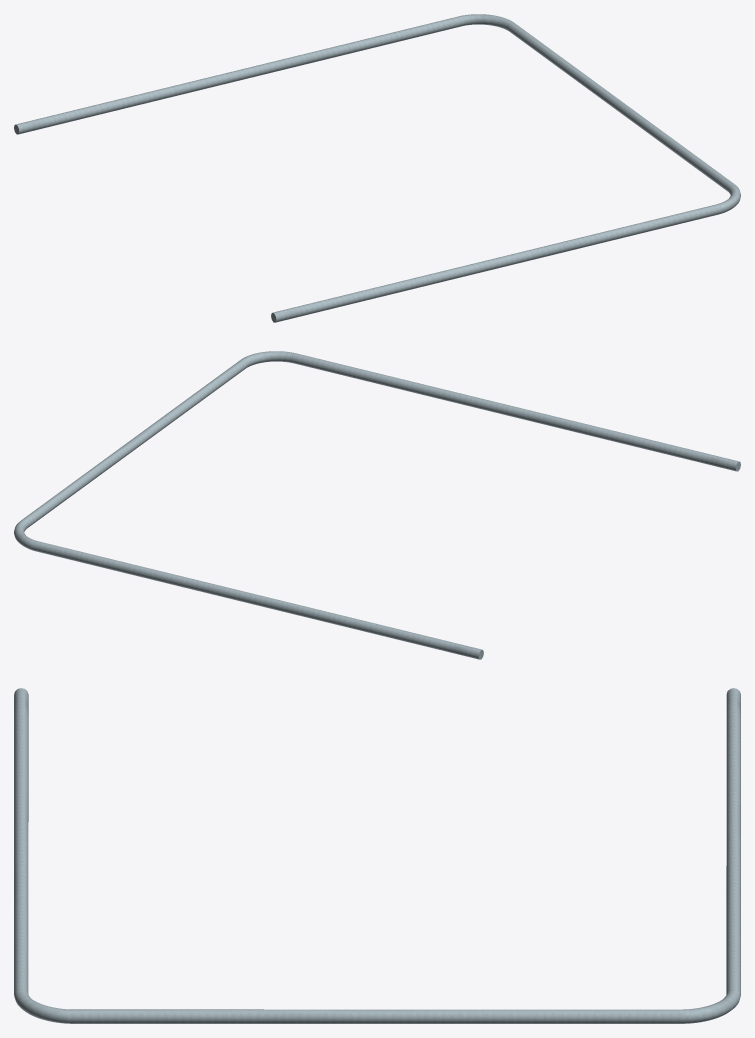
Rendered from 22-rolled-tin-rim-149.2-2.fbx.
3 renders of one model, top to bottom at view 1: azimuth 30°, elevation 25°; view 2: azimuth 150°, elevation 25°; view 3: azimuth 270°, elevation 25°, orthographic. The views are drawn at different scales.
Parts seen in each view (by area): view 1: rolled-tin-rim-149.2-2; view 2: rolled-tin-rim-149.2-2; view 3: rolled-tin-rim-149.2-2.
Boxes of the visible parts, <box> form: rolled-tin-rim-149.2-2: <box>14,14,740,322</box>; rolled-tin-rim-149.2-2: <box>14,351,740,659</box>; rolled-tin-rim-149.2-2: <box>14,688,740,1023</box>.
Bounding box in the file's own units: 8530 × 160 × 8059.
Materials: 1 (1 with a texture image).
